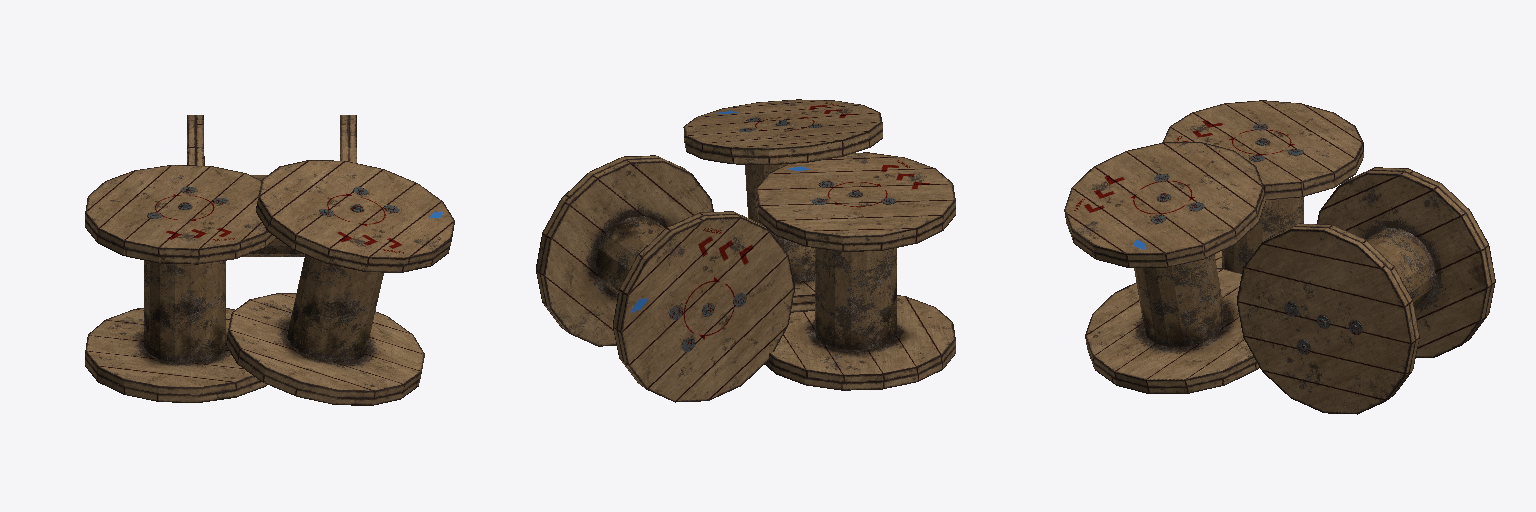
3 views of the same model, side by side, from view 1: azimuth 30°, elevation 25°; view 2: azimuth 150°, elevation 25°; view 3: azimuth 270°, elevation 25° (orthographic).
Parts seen in each view (by area): view 1: Cylinder.006_meshId1_name.002, Cylinder.003_meshId1_name, Cylinder.002_meshId0_name, Cylinder.007_meshId0_name.002, Cylinder.001_meshId1_name.001, Cylinder.004_meshId0_name.001; view 2: Cylinder.001_meshId1_name.001, Cylinder.003_meshId1_name, Cylinder.006_meshId1_name.002, Cylinder.002_meshId0_name, Cylinder.004_meshId0_name.001, Cylinder.007_meshId0_name.002, Cylinder.000_meshId2_name.001; view 3: Cylinder.001_meshId1_name.001, Cylinder.006_meshId1_name.002, Cylinder.003_meshId1_name, Cylinder.007_meshId0_name.002, Cylinder.004_meshId0_name.001, Cylinder.002_meshId0_name, Cylinder.000_meshId2_name.001.
Part boxes in pixels (left/top/right/bottom): Cylinder.006_meshId1_name.002: left=226, top=160, right=454, bottom=405; Cylinder.003_meshId1_name: left=85, top=165, right=276, bottom=402; Cylinder.002_meshId0_name: left=144, top=260, right=225, bottom=362; Cylinder.007_meshId0_name.002: left=287, top=255, right=383, bottom=361; Cylinder.001_meshId1_name.001: left=187, top=115, right=356, bottom=165; Cylinder.004_meshId0_name.001: left=243, top=175, right=304, bottom=256; Cylinder.001_meshId1_name.001: left=536, top=155, right=794, bottom=402; Cylinder.003_meshId1_name: left=756, top=152, right=955, bottom=390; Cylinder.006_meshId1_name.002: left=683, top=99, right=882, bottom=312; Cylinder.002_meshId0_name: left=815, top=248, right=896, bottom=349; Cylinder.004_meshId0_name.001: left=596, top=216, right=664, bottom=294; Cylinder.007_meshId0_name.002: left=745, top=164, right=814, bottom=281; Cylinder.000_meshId2_name.001: left=669, top=293, right=746, bottom=351; Cylinder.001_meshId1_name.001: left=1237, top=167, right=1495, bottom=414; Cylinder.006_meshId1_name.002: left=1064, top=142, right=1265, bottom=393; Cylinder.003_meshId1_name: left=1162, top=100, right=1363, bottom=267; Cylinder.007_meshId0_name.002: left=1134, top=254, right=1224, bottom=346; Cylinder.004_meshId0_name.001: left=1367, top=228, right=1435, bottom=305; Cylinder.002_meshId0_name: left=1222, top=197, right=1303, bottom=272; Cylinder.000_meshId2_name.001: left=1284, top=302, right=1361, bottom=353.
Size of the model in its own units: 6.88 by 3.83 by 7.72.
Materials: 9 (3 with a texture image).